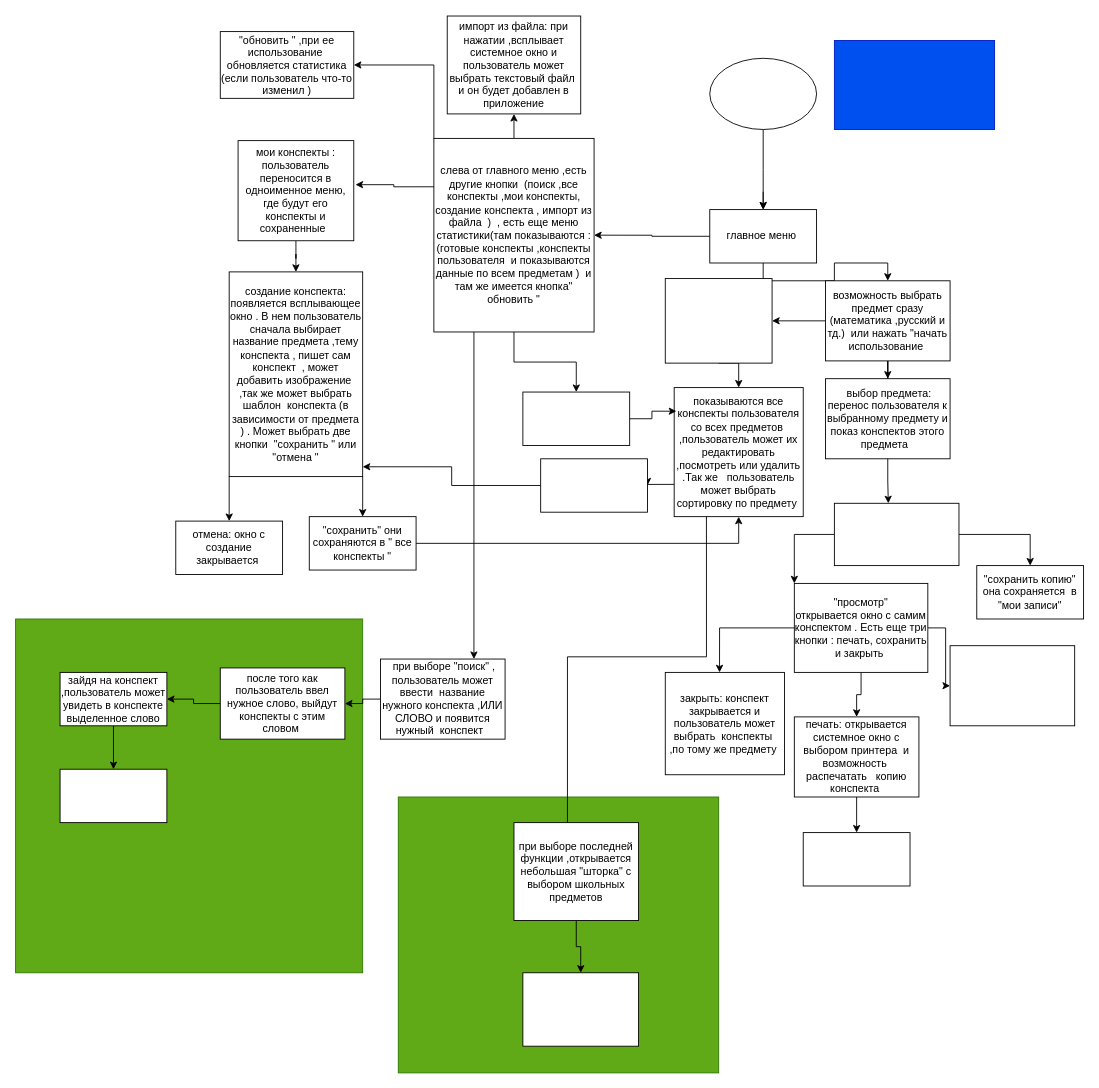
The diagram is 1099 pixels wide and 1088 high, and some of its shapes have lost their labels. The centre of each missing label's shape, as x and y in pixels:
выбрав нужный предмет, они отсортируются по этому предмету и будет только он: [580,1009]
выделенное слово будет иметь желтый фон: [113,795]
если принтера нет,то кнопка не будет работать: [856,859]
запуск программы: [763,93]
начать использование: пользователь переносится в "все конспекты ": [718,320]
пользователь может выбрать "просмотр" или "сохранить копию": [896,534]
пользовательская: [914,84]
при выборе "все конспекты: [576,418]
редактировать: [593,485]
сохранить : появляется системное окно с выбором куда сохранить: [1012,685]
